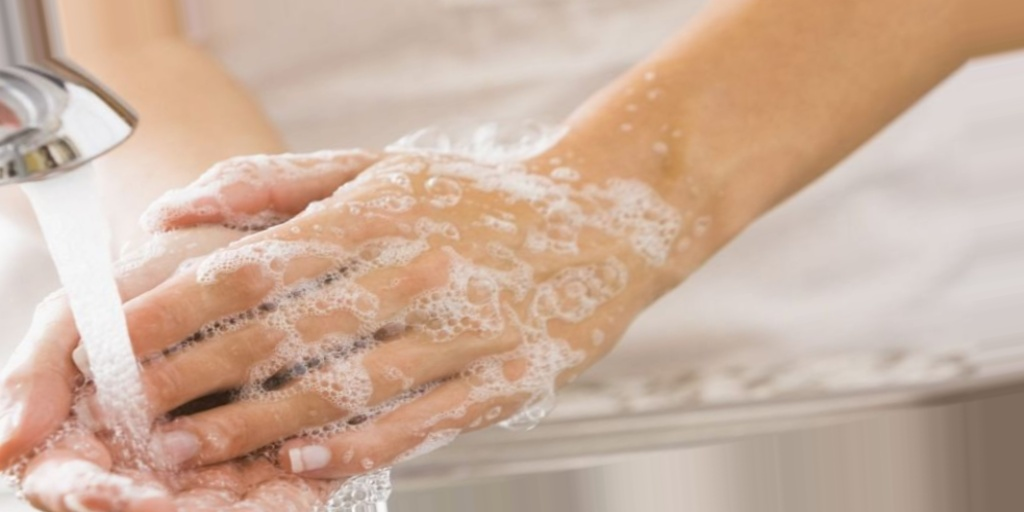washing hand: (0, 0, 822, 511)
